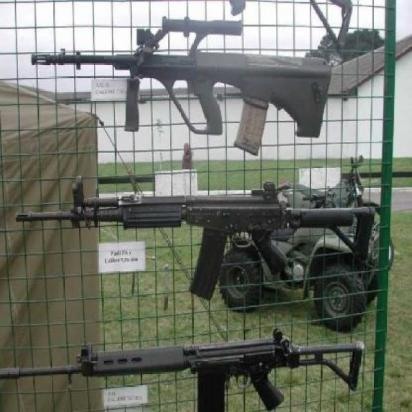Gun: (33, 18, 331, 142), (17, 175, 374, 270), (0, 332, 364, 412)
